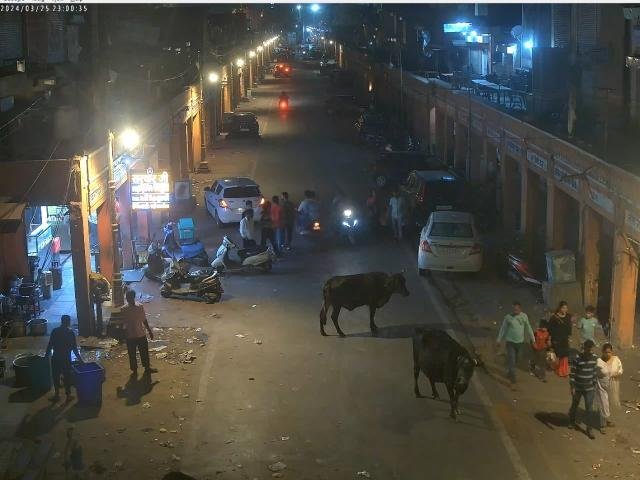car: (418, 209, 484, 276), (396, 169, 471, 222), (202, 176, 266, 226)
cattle: (411, 324, 478, 424), (318, 269, 409, 336)
license_plate: (441, 248, 461, 254), (437, 206, 453, 210)
motorbike-rider: (295, 187, 323, 236)
person: (118, 290, 157, 371), (42, 314, 76, 404), (570, 340, 599, 440), (497, 300, 532, 382), (596, 342, 623, 433), (547, 302, 571, 375), (574, 305, 602, 349), (532, 320, 550, 386), (388, 191, 404, 240), (280, 192, 293, 250), (240, 210, 258, 246), (270, 196, 282, 249), (367, 188, 380, 236), (258, 200, 272, 244)
scooty: (158, 260, 224, 304), (211, 234, 275, 275), (160, 224, 208, 264), (506, 250, 548, 290), (142, 243, 190, 277)
scooty-rider: (330, 187, 363, 243)
